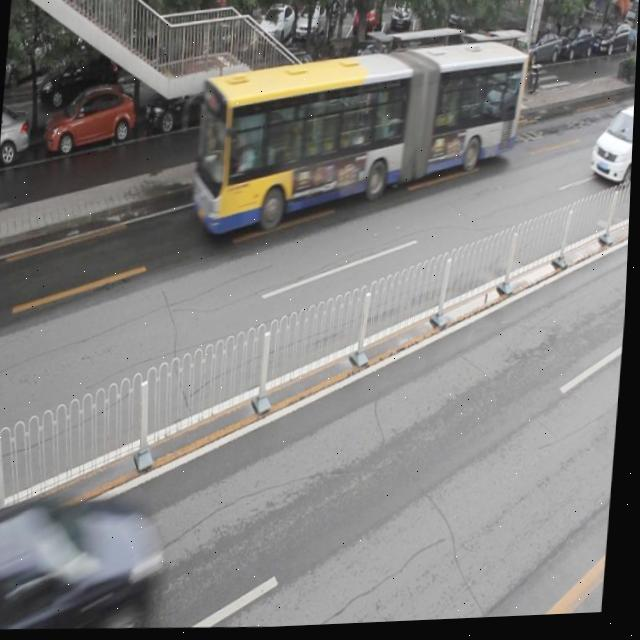car: (0, 483, 178, 635), (45, 86, 137, 162), (143, 74, 239, 146), (250, 54, 325, 125), (326, 48, 399, 120), (0, 111, 32, 169)
truck: (589, 107, 635, 191)
van: (176, 31, 531, 252)
